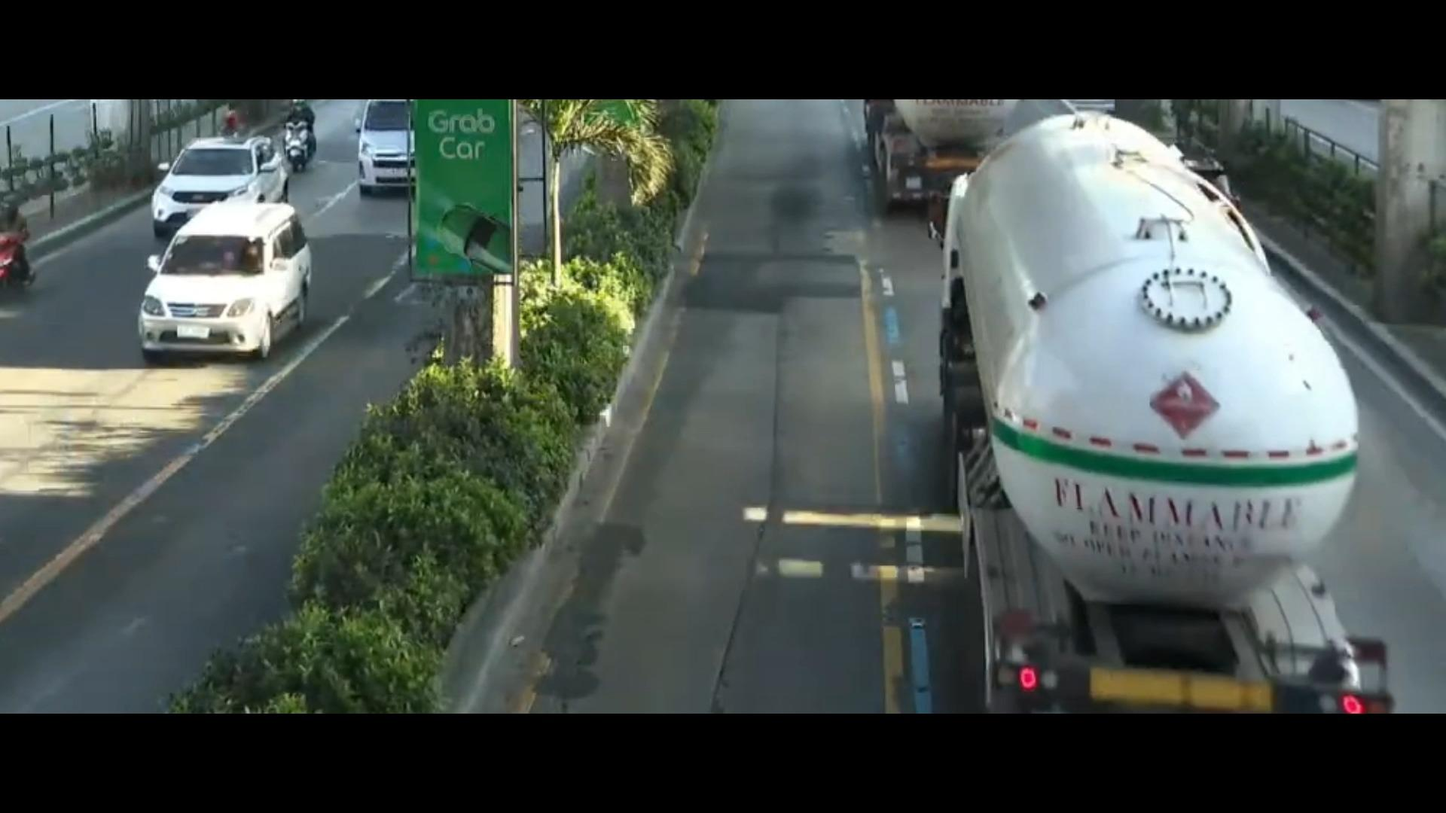Motorcycle: (0, 181, 61, 320), (286, 98, 327, 173)
SUV: (109, 199, 327, 382), (135, 123, 284, 236)
Truck: (907, 96, 1446, 707), (864, 101, 1110, 214)
Van: (354, 101, 407, 199)
